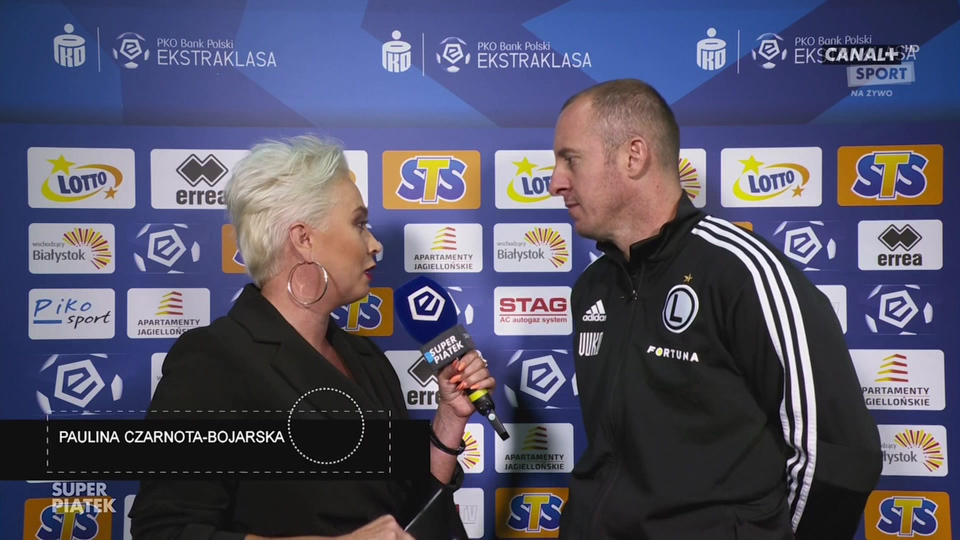pko: (46, 21, 90, 70), (690, 26, 730, 73), (375, 28, 413, 74)
